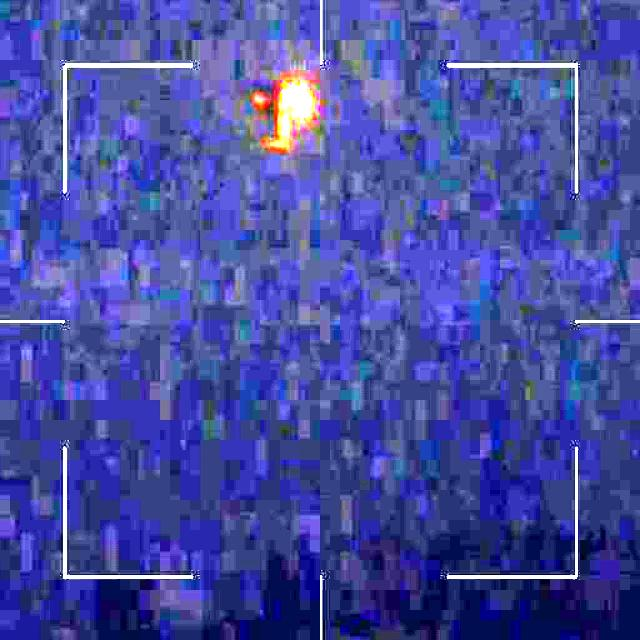bird: (229, 72, 318, 162)
